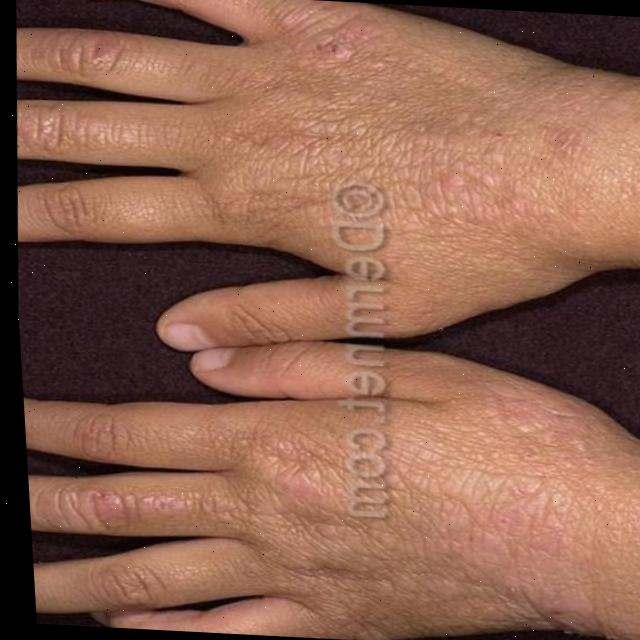Eczema: (29, 7, 623, 640)
